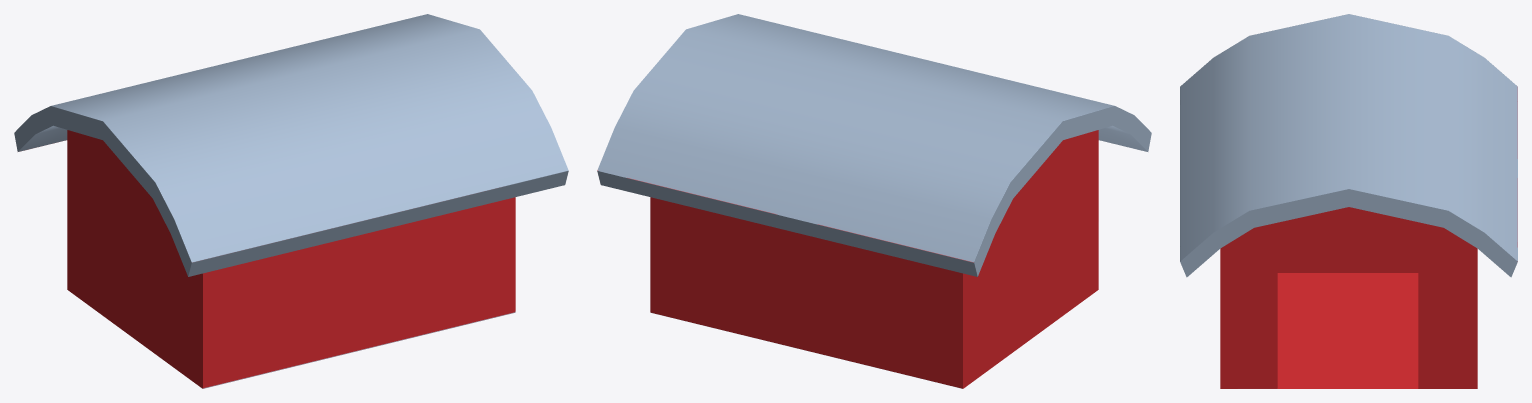
File: barn_winter.glb
3 renders of one model, left to right at view 1: azimuth 30°, elevation 25°; view 2: azimuth 150°, elevation 25°; view 3: azimuth 270°, elevation 25°, orthographic. The views are drawn at different scales.
Parts seen in each view (by area): view 1: Plane; view 2: Plane; view 3: Plane.
Boxes of the visible parts, left/top/right/bottom form: Plane: left=14, top=14, right=568, bottom=388; Plane: left=597, top=14, right=1151, bottom=388; Plane: left=1180, top=14, right=1517, bottom=388.
Size of the model in its own units: 2.41 by 1.38 by 1.97.
Materials: 2 (2 with a texture image).
